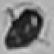not correct: (0, 4, 48, 52)
